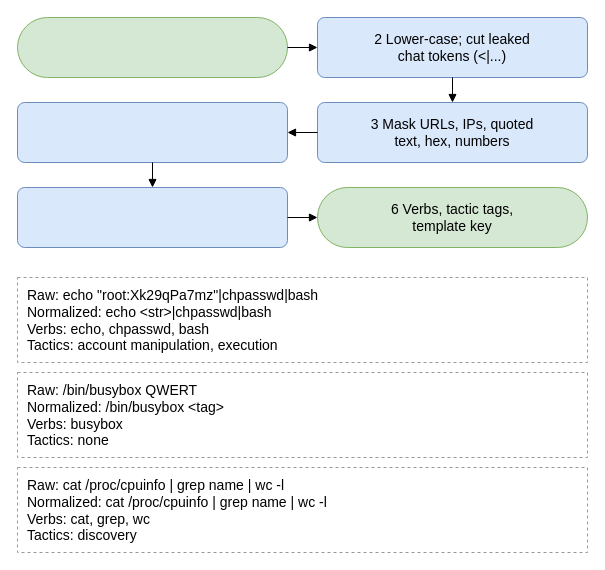
The diagram is 605 pixels wide and 570 high, and some of its shapes have lost their labels. The shapes that lost their labels are listed below. From the top down, each one's centre as x and y in pixels, then its label:
At pixel 152 47: "1 Raw command from a session".
At pixel 152 132: "4 Mask the random busybox tag".
At pixel 152 217: "5 Split on ; | && || $( ` → segments".
